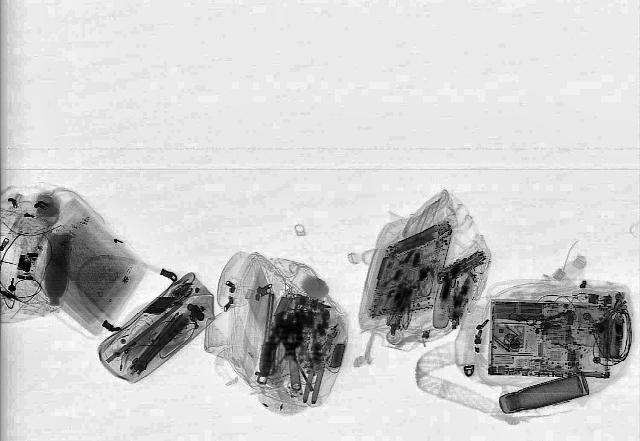Wrench: (270, 311, 310, 391)
